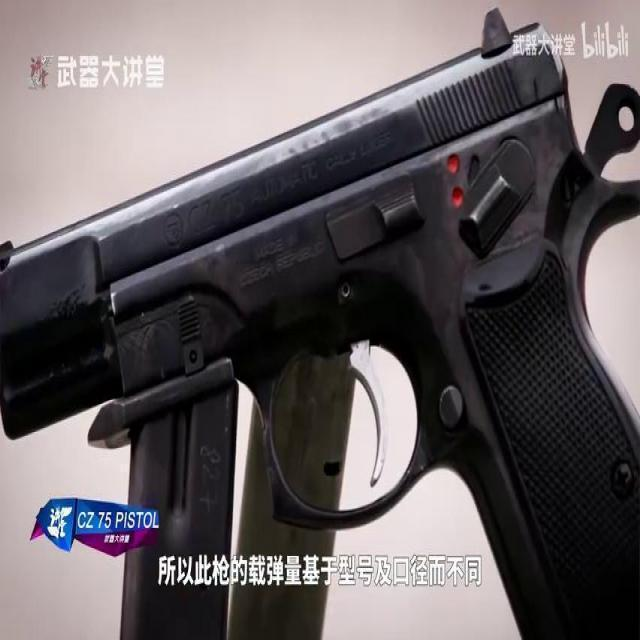Handgun: (7, 6, 640, 626)
